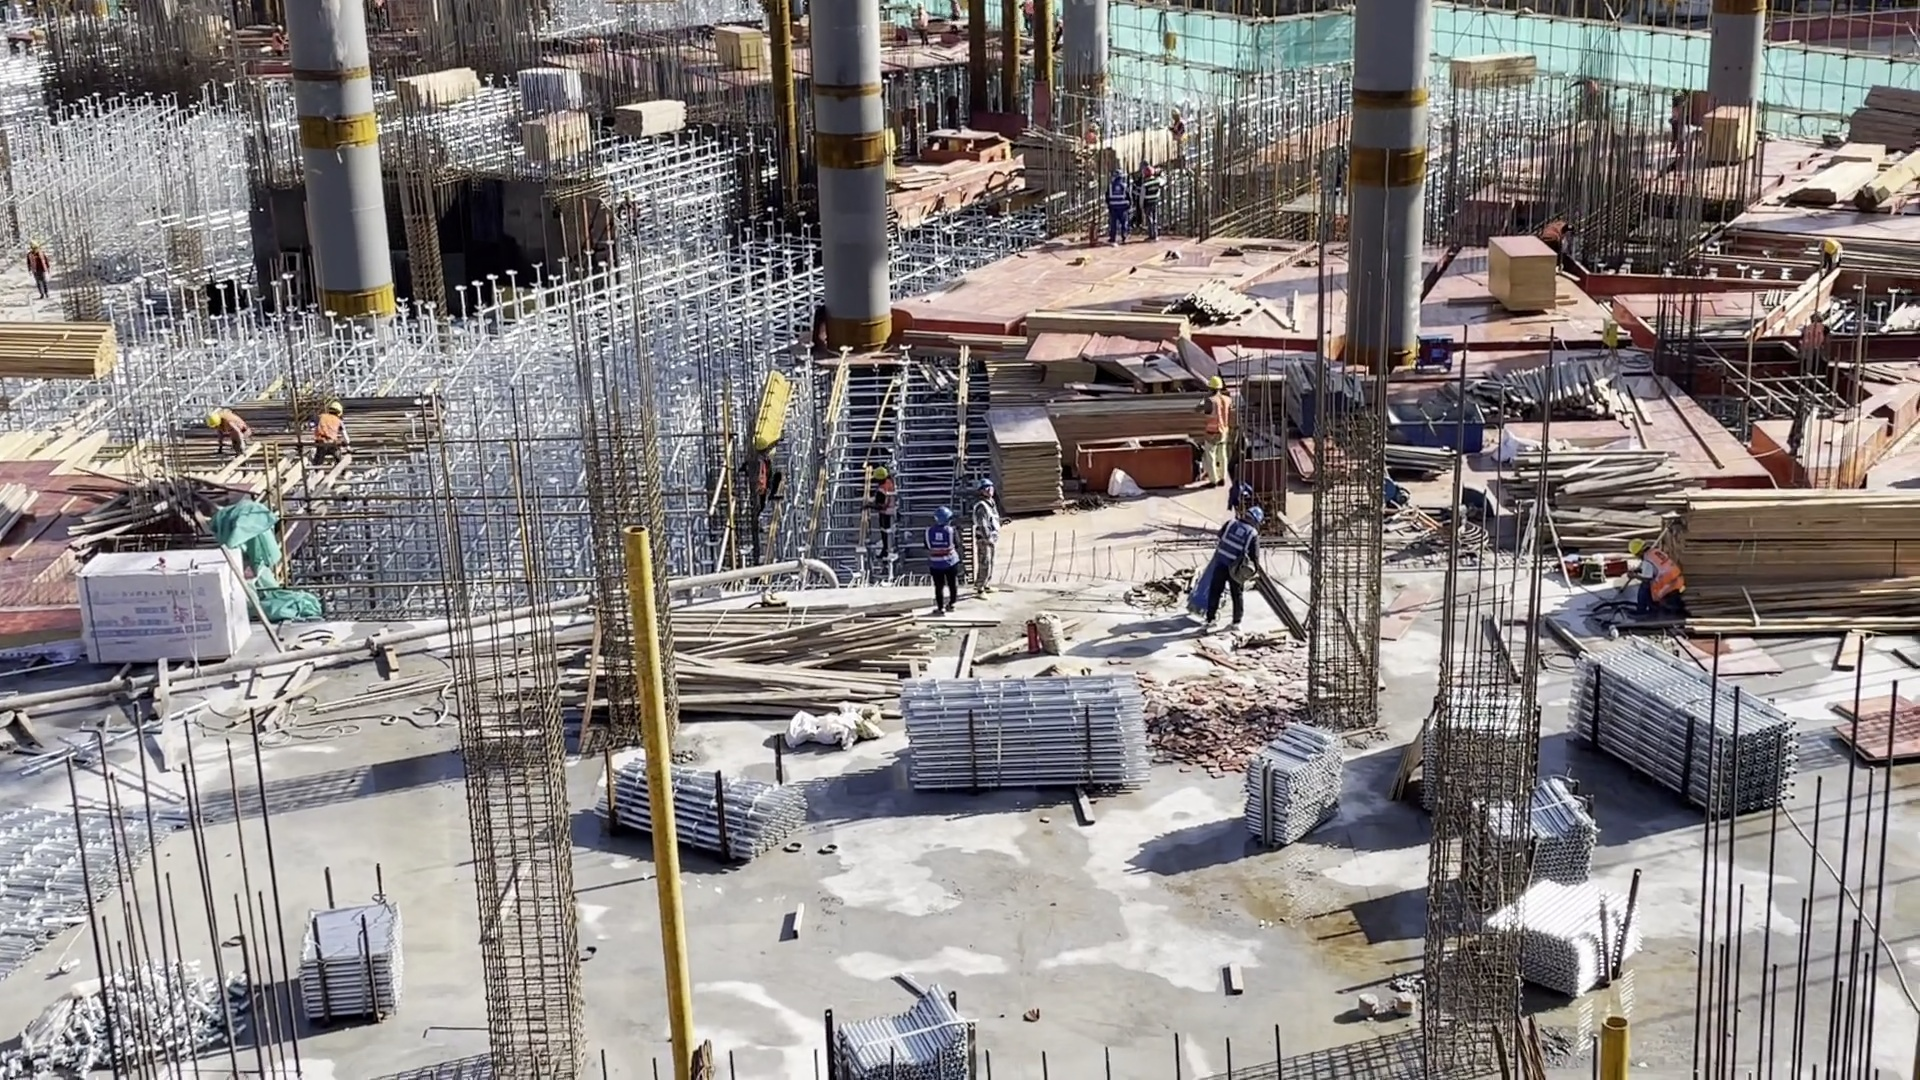board: (986, 404, 1067, 518), (1820, 687, 1920, 773), (1486, 233, 1556, 312), (517, 107, 597, 168), (1701, 101, 1760, 169), (1028, 337, 1099, 392)
cutter: (1112, 352, 1198, 396), (919, 125, 1007, 164)
ebox: (1598, 315, 1619, 359), (1163, 29, 1177, 66)
helmet: (1624, 537, 1647, 561), (929, 507, 953, 527), (1245, 506, 1264, 525), (1203, 375, 1224, 391), (974, 475, 992, 493), (206, 411, 221, 429), (872, 466, 888, 481), (753, 435, 769, 451), (325, 400, 343, 413), (1140, 167, 1157, 179), (1111, 169, 1124, 179)
hopper: (1387, 392, 1482, 457)
person: (1206, 504, 1265, 636), (1627, 530, 1682, 625), (924, 502, 968, 616), (1198, 375, 1232, 485), (971, 482, 1003, 593), (741, 432, 776, 535), (310, 397, 353, 473), (869, 463, 900, 557), (206, 405, 253, 461), (1136, 163, 1165, 241), (1104, 169, 1131, 239), (1798, 311, 1828, 375), (24, 238, 51, 297), (1813, 235, 1843, 273), (912, 1, 931, 48), (1168, 108, 1188, 149), (1019, 1, 1036, 35)
scaffold: (1565, 634, 1799, 819), (1, 802, 199, 989), (900, 677, 1154, 795), (5, 966, 267, 1074), (596, 757, 810, 877), (1477, 883, 1641, 991), (1455, 779, 1597, 896), (1422, 698, 1544, 827), (826, 986, 974, 1080), (296, 896, 403, 1023), (1241, 720, 1345, 848)
vest: (1644, 548, 1688, 600), (1215, 521, 1255, 572), (971, 498, 1002, 550), (927, 526, 959, 575), (1204, 392, 1233, 443), (222, 410, 252, 441), (874, 482, 898, 521), (316, 413, 341, 449), (1106, 182, 1128, 215), (748, 465, 767, 497), (1141, 182, 1162, 206), (28, 251, 47, 275)
wood: (1667, 474, 1920, 638), (666, 598, 940, 741), (1524, 445, 1672, 560), (1482, 359, 1650, 425), (1786, 146, 1920, 227), (1167, 279, 1308, 343), (1, 318, 122, 380), (1096, 124, 1176, 174), (397, 66, 478, 115), (1450, 48, 1538, 91), (612, 96, 691, 141)
